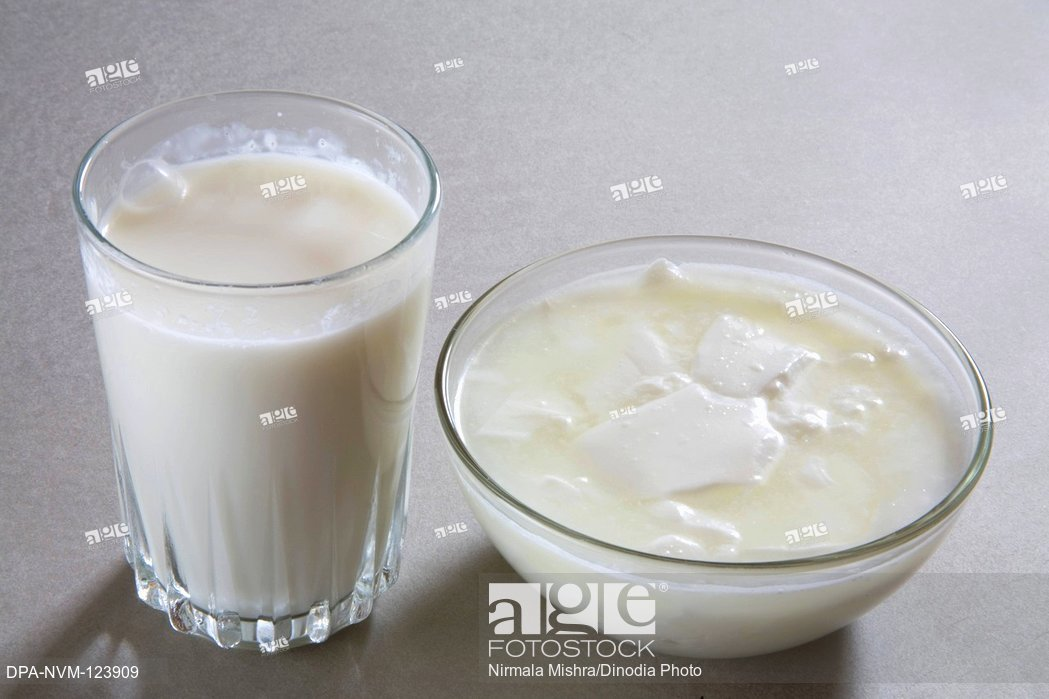glass of milk: (108, 152, 406, 644)
